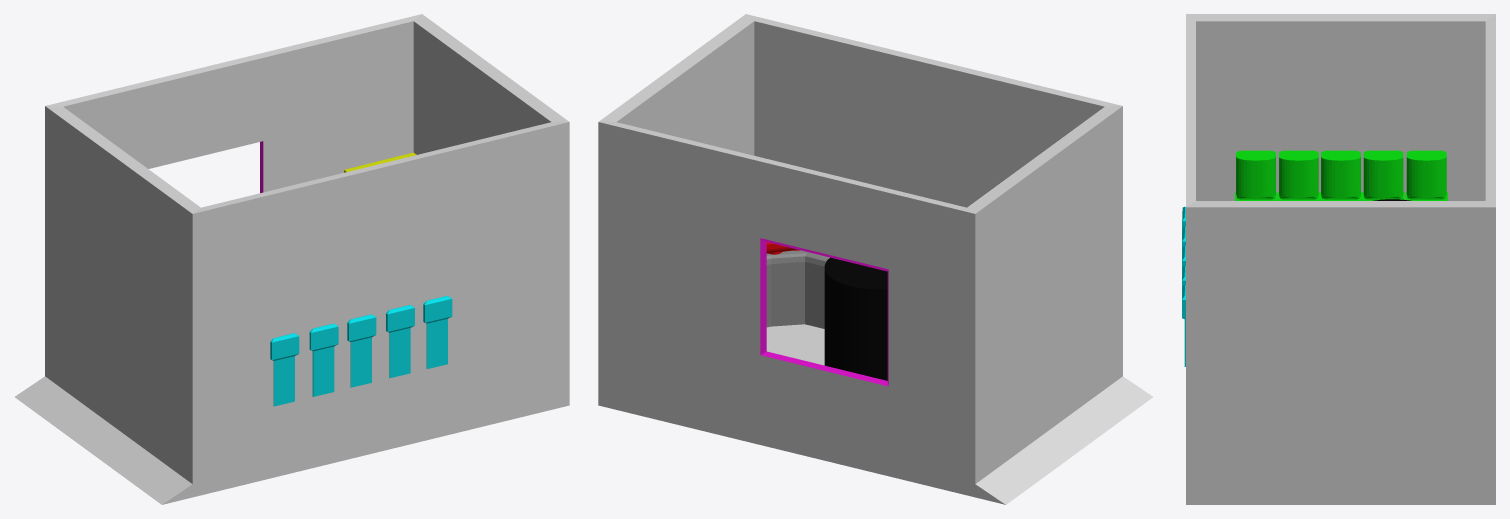
Rendered from VanInterior.fbx.
3 views of the same model, side by side, from view 1: azimuth 30°, elevation 25°; view 2: azimuth 150°, elevation 25°; view 3: azimuth 270°, elevation 25° (orthographic). The views are drawn at different scales.
Parts seen in each view (by area): view 1: Exterior, Icosphere.003, Icosphere.004, Icosphere.002, Icosphere, Icosphere.001; view 2: Exterior, Cylinder.001, Counter; view 3: Exterior, Cube.006, Cube.004, Cube, Cube.003, Cube.005.
Part boxes in pixels (<box>): Exterior: <box>15,14,569,504</box>; Icosphere.003: <box>309,323,338,396</box>; Icosphere.004: <box>270,333,299,406</box>; Icosphere.002: <box>347,314,376,387</box>; Icosphere: <box>423,296,452,368</box>; Icosphere.001: <box>386,305,414,378</box>; Exterior: <box>598,14,1152,504</box>; Cylinder.001: <box>824,257,887,380</box>; Counter: <box>766,250,829,328</box>; Exterior: <box>1186,14,1495,504</box>; Cube.006: <box>1405,150,1447,200</box>; Cube.004: <box>1362,150,1404,200</box>; Cube: <box>1319,150,1362,200</box>; Cube.003: <box>1277,150,1319,200</box>; Cube.005: <box>1235,150,1277,200</box>.
Size of the model in its own units: 2228 by 1481 by 1414.
